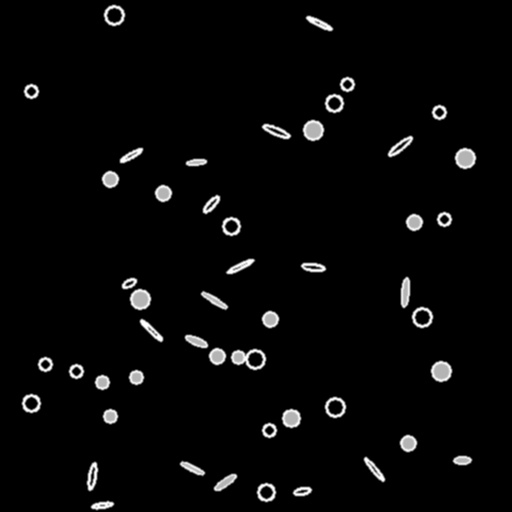pseudomonas: (386, 134, 414, 158), (139, 318, 163, 342), (363, 456, 385, 482), (201, 290, 227, 310), (261, 123, 291, 139), (213, 472, 237, 492), (226, 258, 254, 274), (306, 15, 332, 31), (180, 460, 204, 476), (119, 147, 143, 163), (202, 194, 220, 214), (184, 334, 208, 348), (87, 463, 97, 489), (401, 278, 409, 306), (121, 277, 137, 289), (301, 263, 325, 271), (293, 486, 311, 496), (92, 501, 112, 509), (453, 457, 471, 463), (187, 159, 205, 165)
synechocystis: (432, 362, 450, 380), (304, 121, 322, 139), (131, 290, 149, 308), (326, 398, 344, 416), (246, 350, 264, 368), (105, 6, 123, 24), (413, 308, 431, 326), (456, 149, 474, 167), (23, 395, 39, 411), (258, 484, 274, 500), (283, 410, 299, 426), (223, 218, 239, 234), (326, 95, 342, 111), (407, 215, 421, 229), (401, 436, 415, 450), (210, 349, 224, 363), (103, 172, 117, 186), (156, 186, 170, 200), (263, 312, 277, 326), (232, 351, 244, 363), (263, 424, 275, 436), (39, 358, 51, 370), (96, 376, 108, 388), (130, 371, 142, 383), (341, 78, 353, 90), (104, 410, 116, 422), (70, 365, 82, 377), (438, 213, 450, 225), (433, 106, 445, 118), (25, 85, 37, 97)
